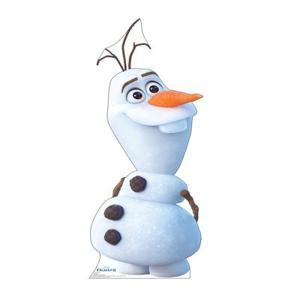olaf: (91, 14, 204, 284)
